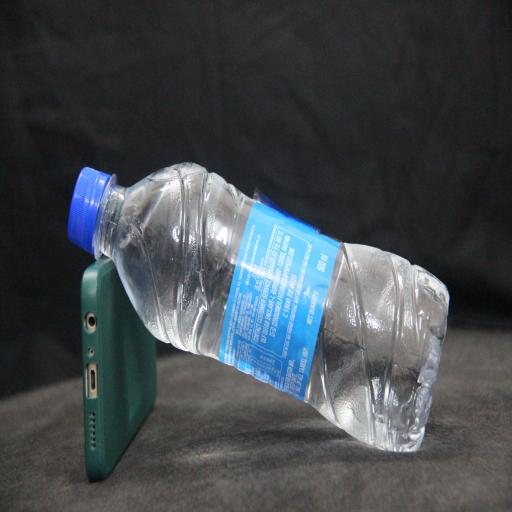Aquafina: (60, 150, 460, 469)
